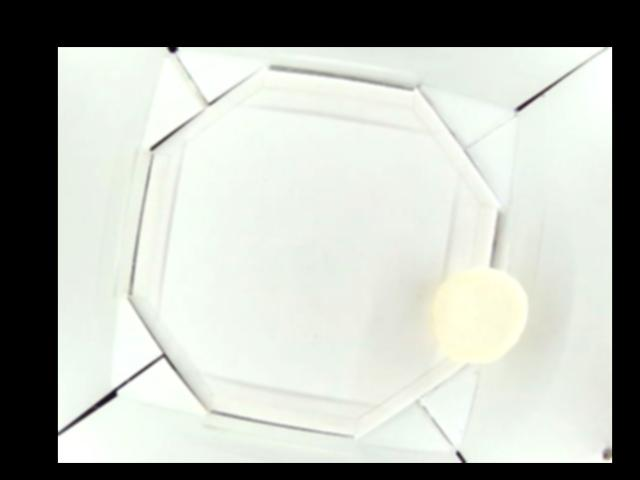Mooli: (431, 268, 529, 362)
